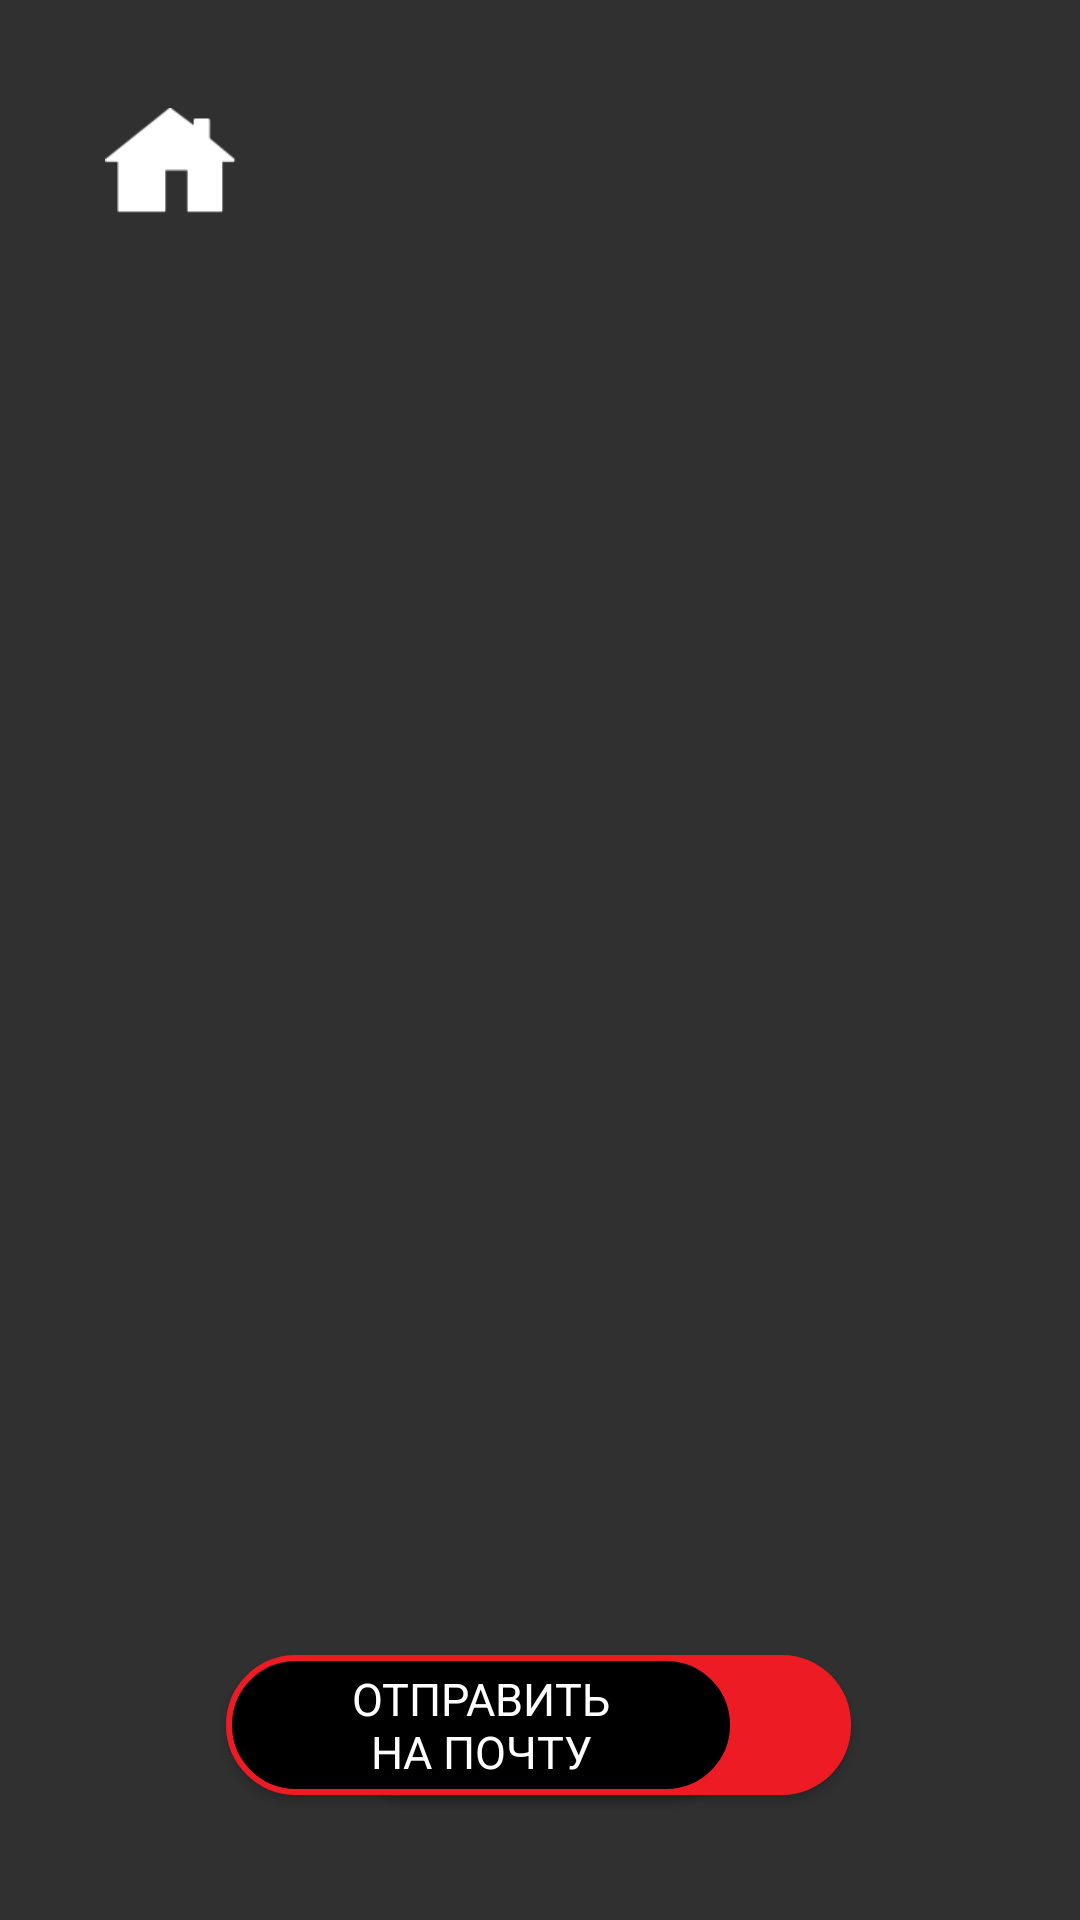

Icons on this 1080 × 1920 Android screen, each with its box as (x1, y1, x2, y2):
house: (105, 108, 235, 213)
